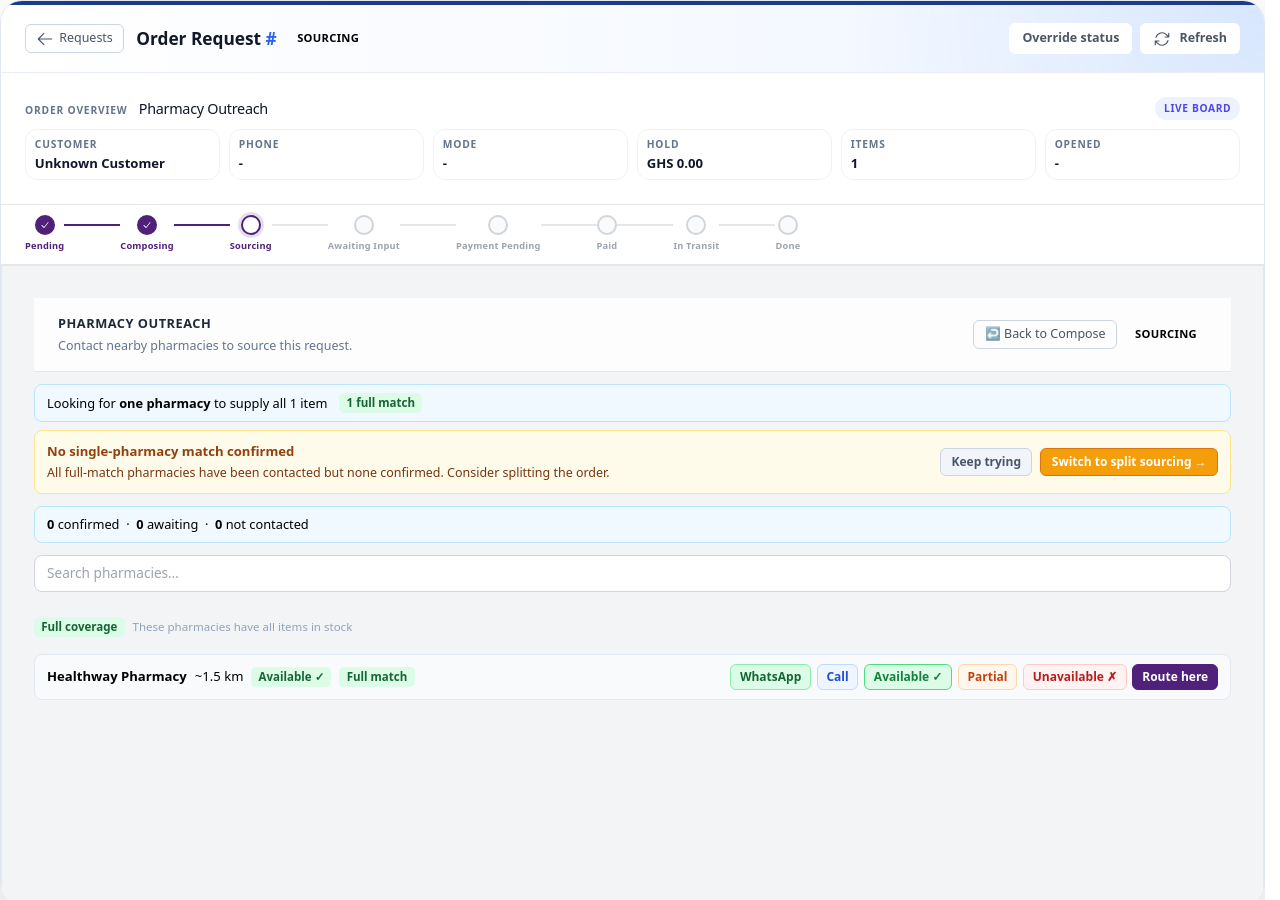
Test: order requests: routing items to a pharmacy › says so when routing fails
What coordinates should you click on to do the following:
click the button "Route here"
I would click on:
 (1175, 677)
Its box is [1132,664,1218,690].
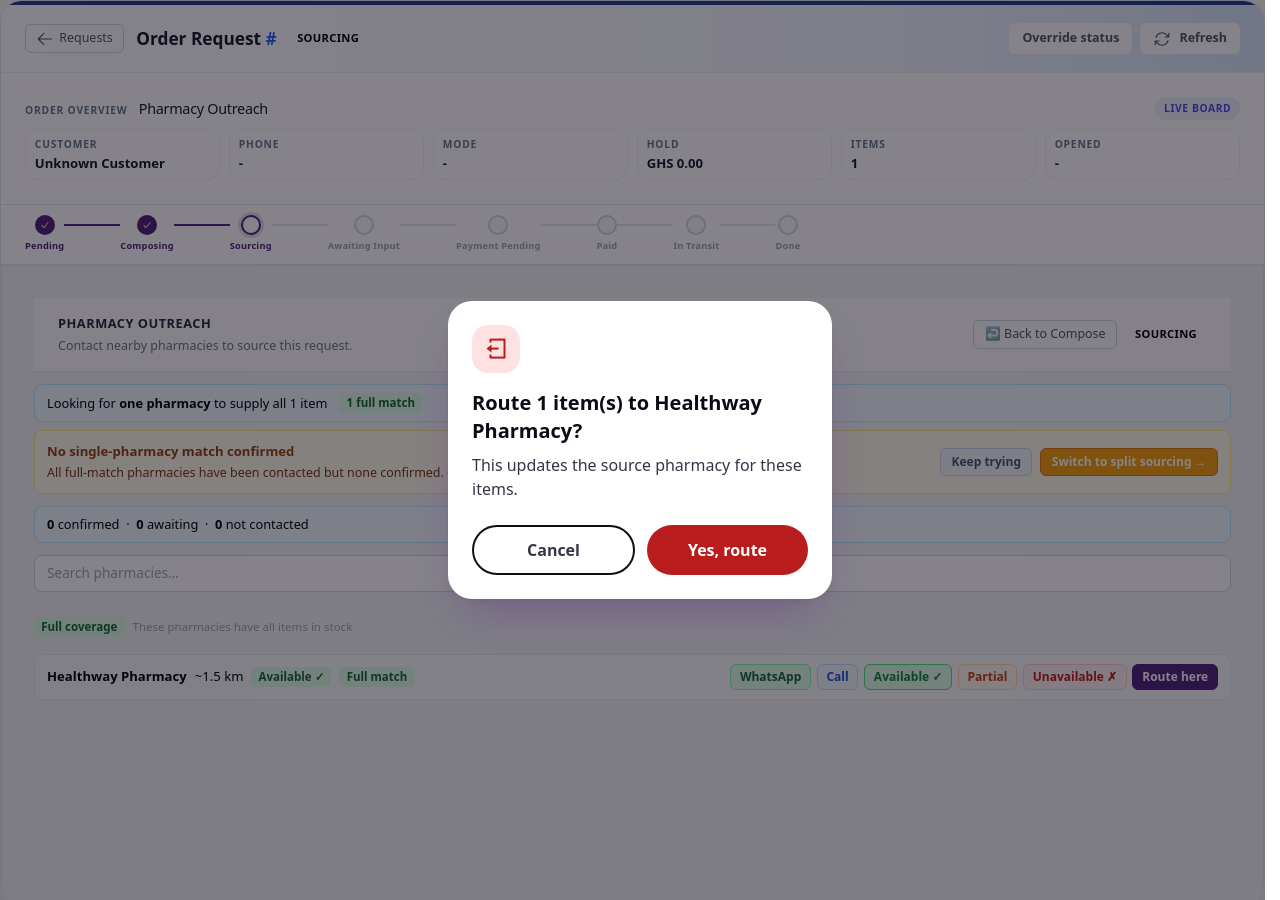
What coordinates should you click on to do the following:
click the button "Yes, route"
I would click on:
 (728, 550)
Its box is [647,525,808,575].
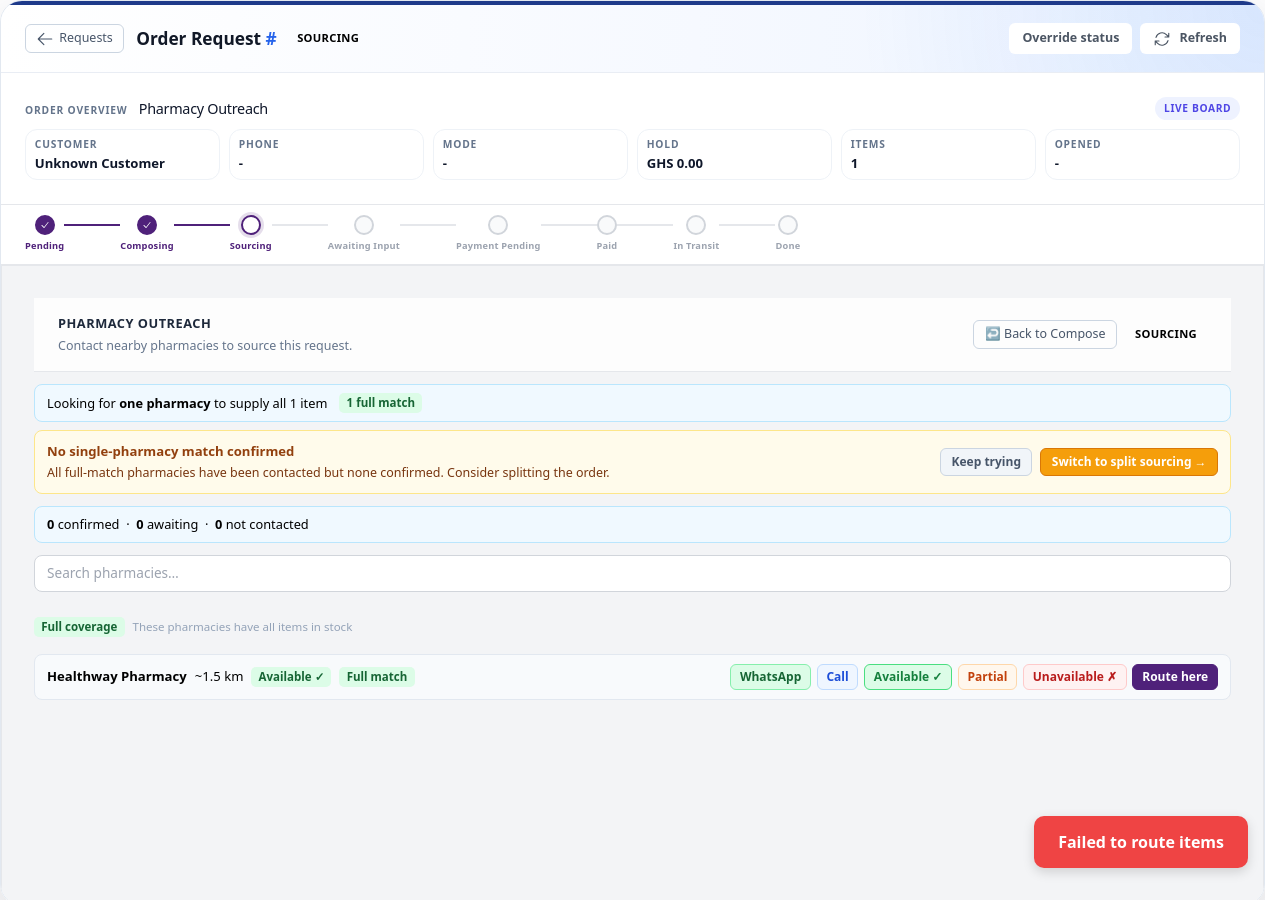
Check: the text "Failed to route items" is shown, box [1034,816,1248,868]
